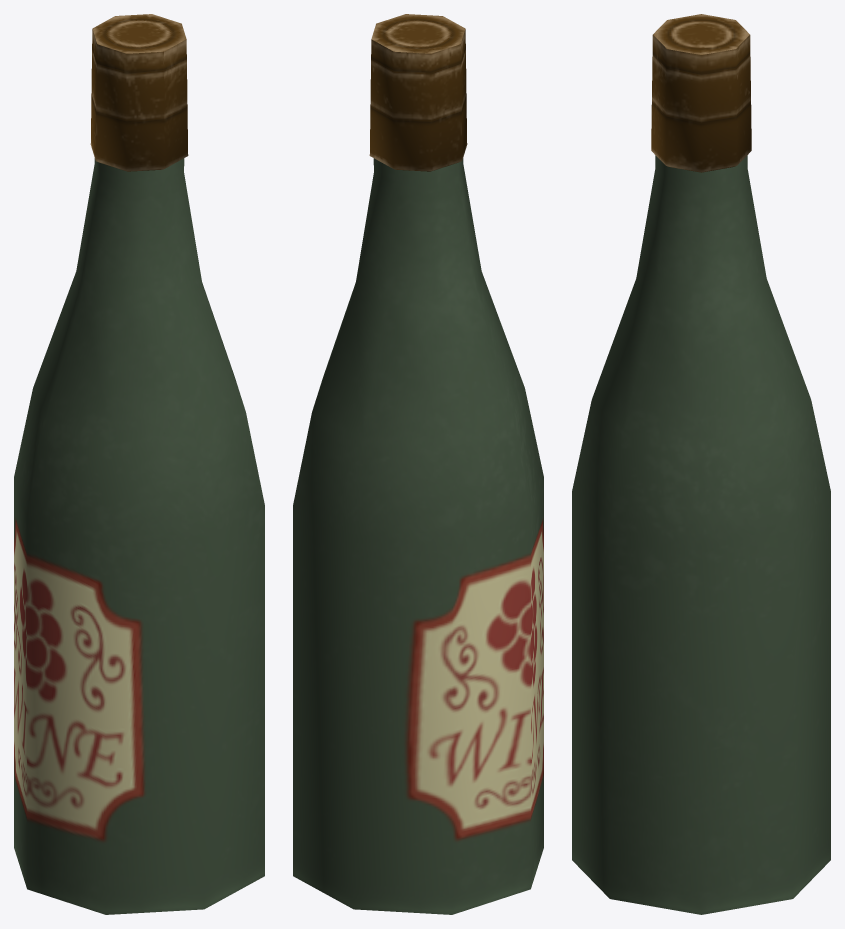
File: LOD1_corkedSmallBottle_wLabel_1.fbx
3 renders of one model, left to right at view 1: azimuth 30°, elevation 25°; view 2: azimuth 150°, elevation 25°; view 3: azimuth 270°, elevation 25°, orthographic.
Visible parts, largest first — view 1: LOD1_corkedSmallBottle_wLabel_1; view 2: LOD1_corkedSmallBottle_wLabel_1; view 3: LOD1_corkedSmallBottle_wLabel_1.
Part boxes in pixels (x1,y1,x2,y2): LOD1_corkedSmallBottle_wLabel_1: (14,14,264,914); LOD1_corkedSmallBottle_wLabel_1: (293,14,543,914); LOD1_corkedSmallBottle_wLabel_1: (572,14,830,914).
Size of the model in its own units: 0.0929 by 0.3272 by 0.0929.
